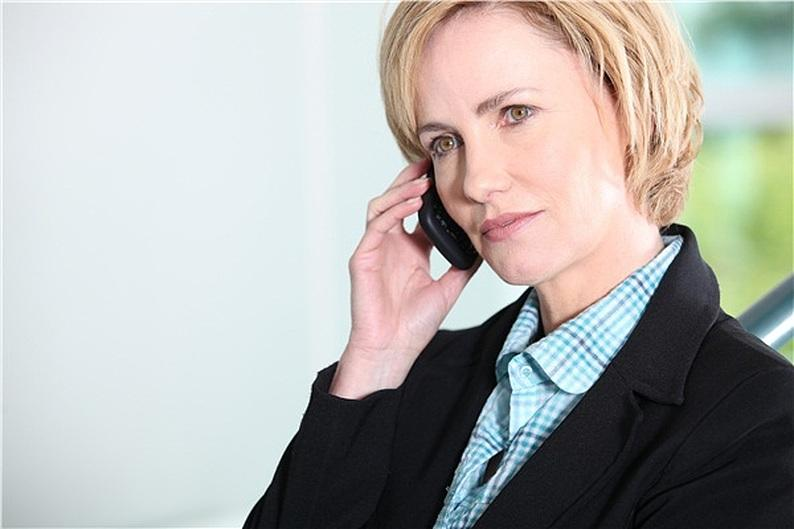calling: (341, 149, 485, 355)
